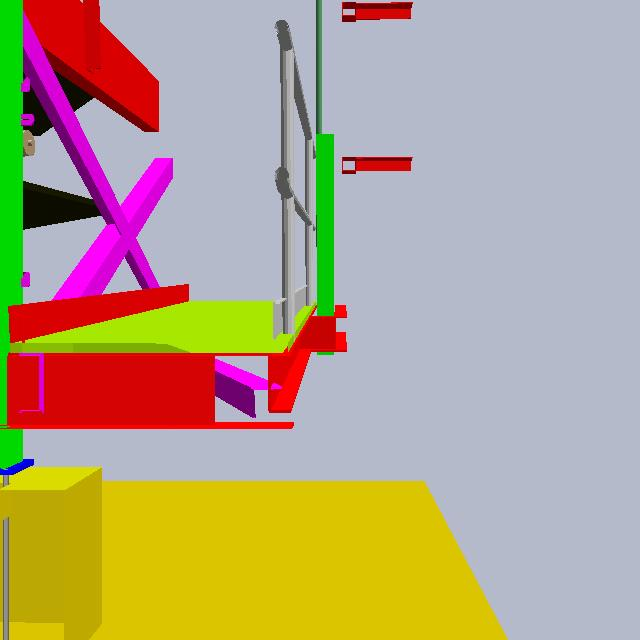Poste: (313, 1, 324, 365)
Soporte: (290, 126, 360, 368)
